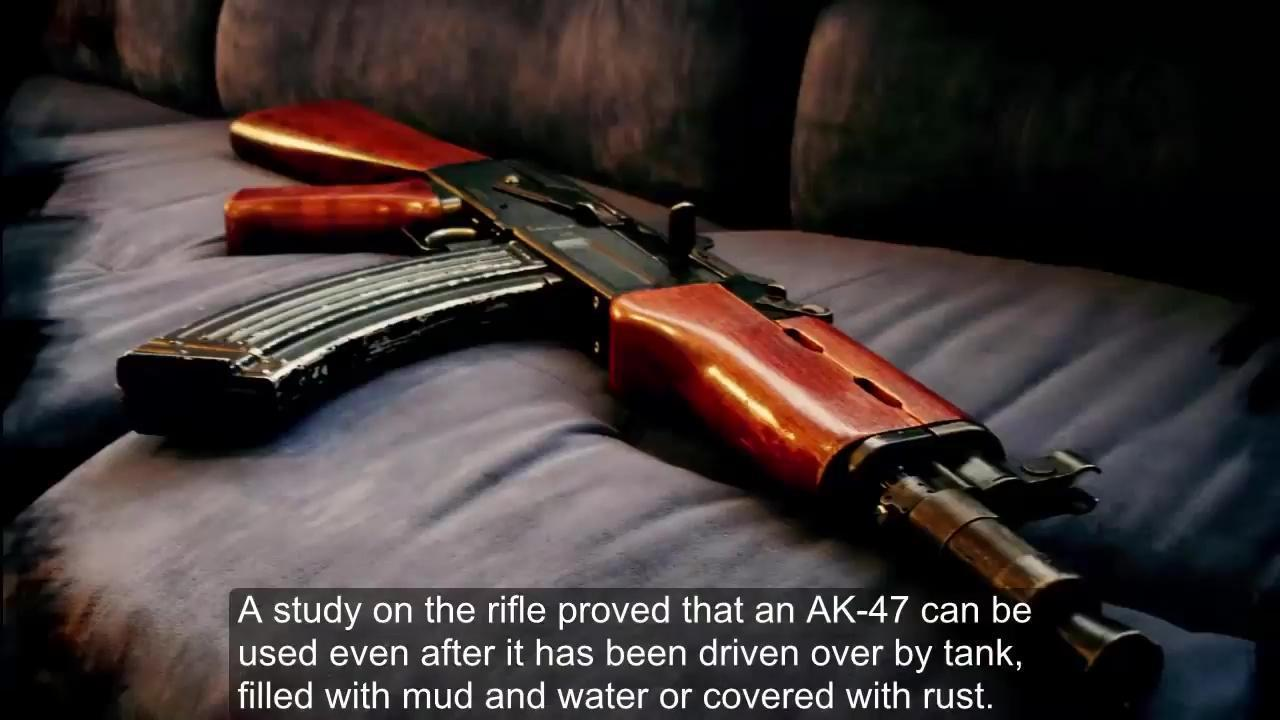Gun: (97, 70, 1201, 692)
